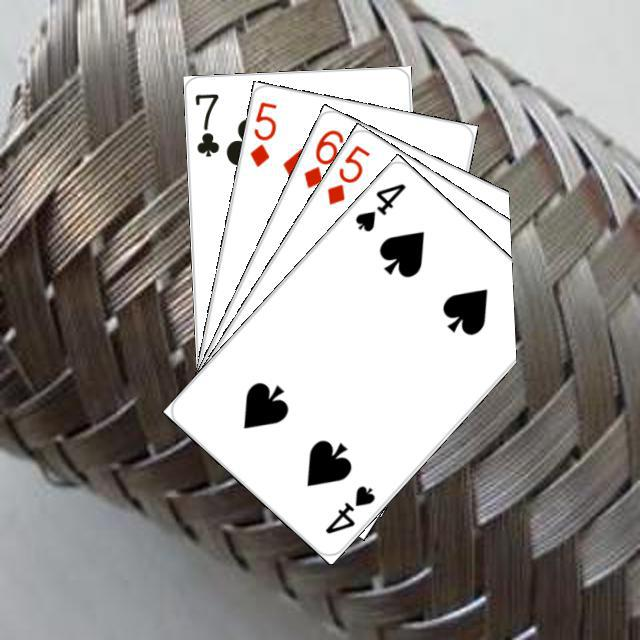4s: (319, 480, 378, 536), (350, 178, 408, 234)
5d: (321, 140, 372, 207), (244, 96, 279, 169)
6d: (298, 124, 346, 190)
7c: (190, 88, 221, 159)
